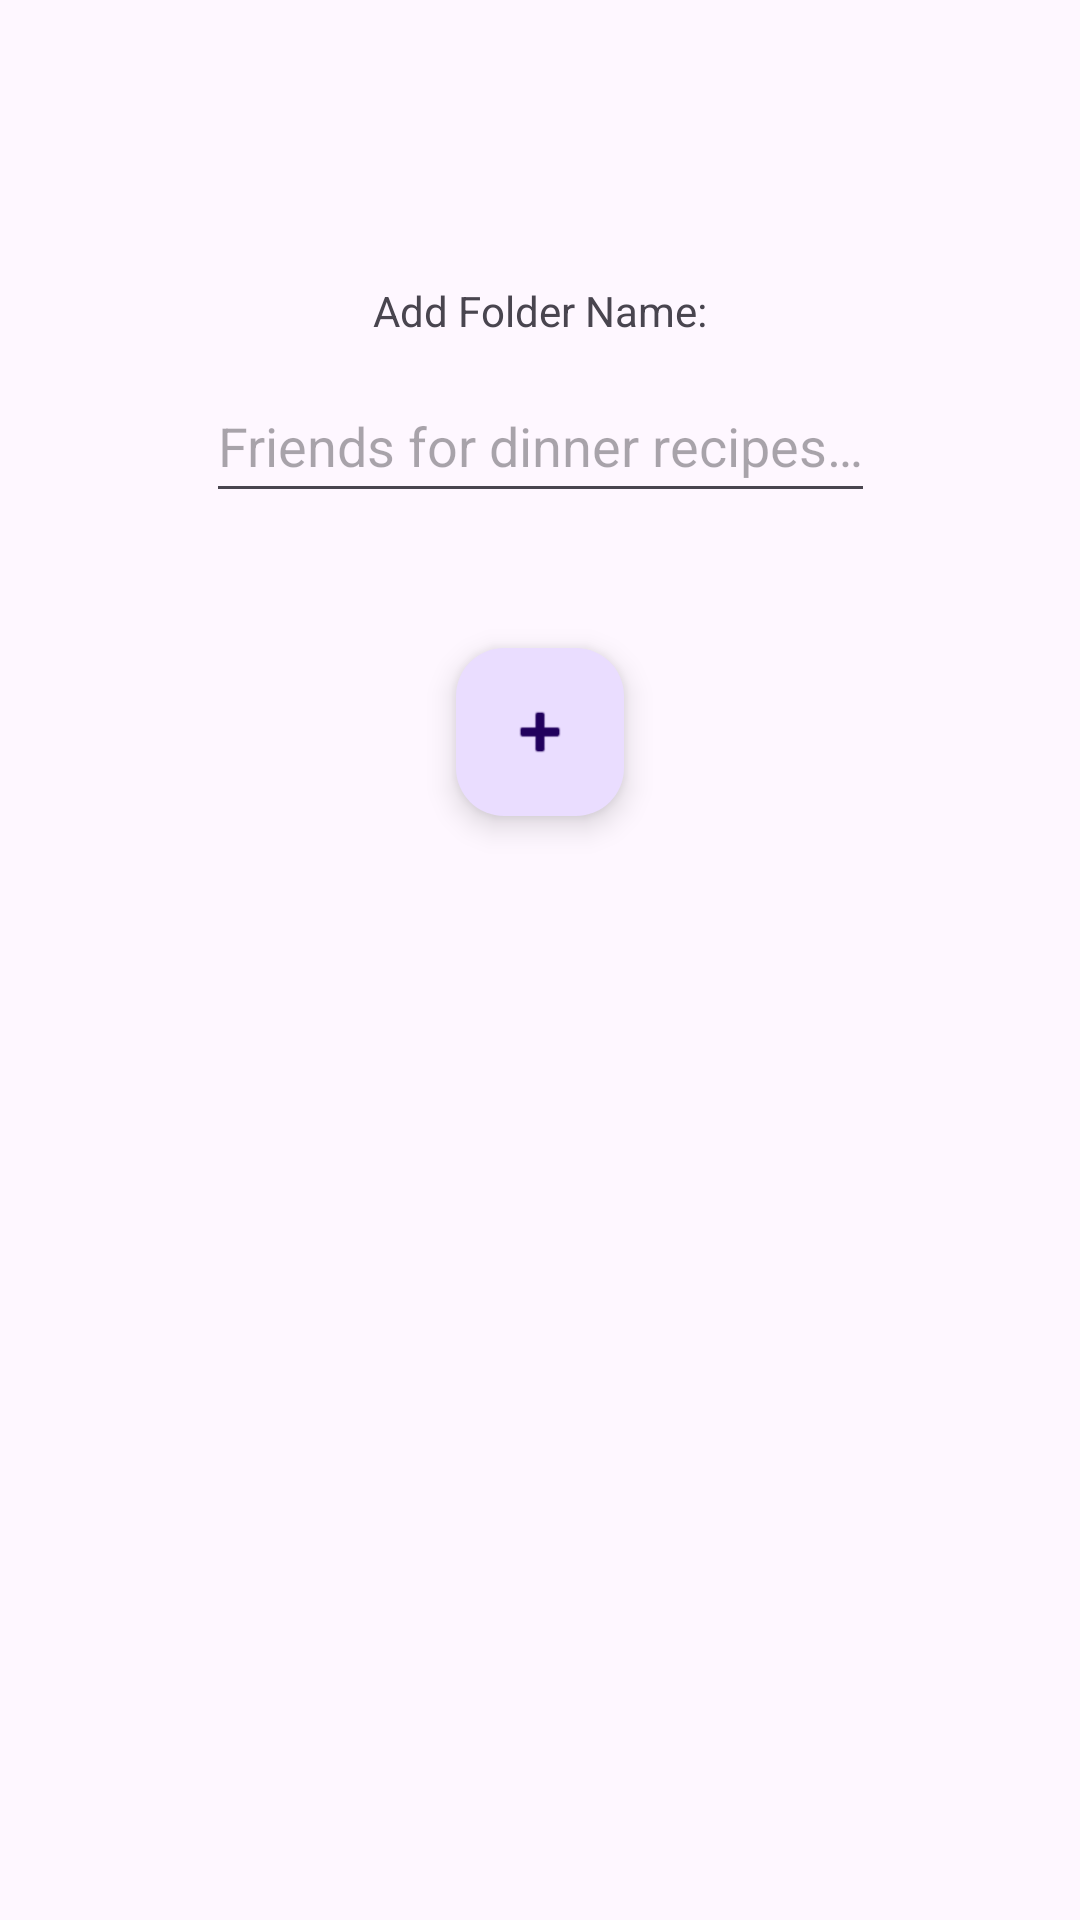

Screen size 1080px x 1920px. Icon name, then its center in pixels as (x,y):
add: (540,732)
